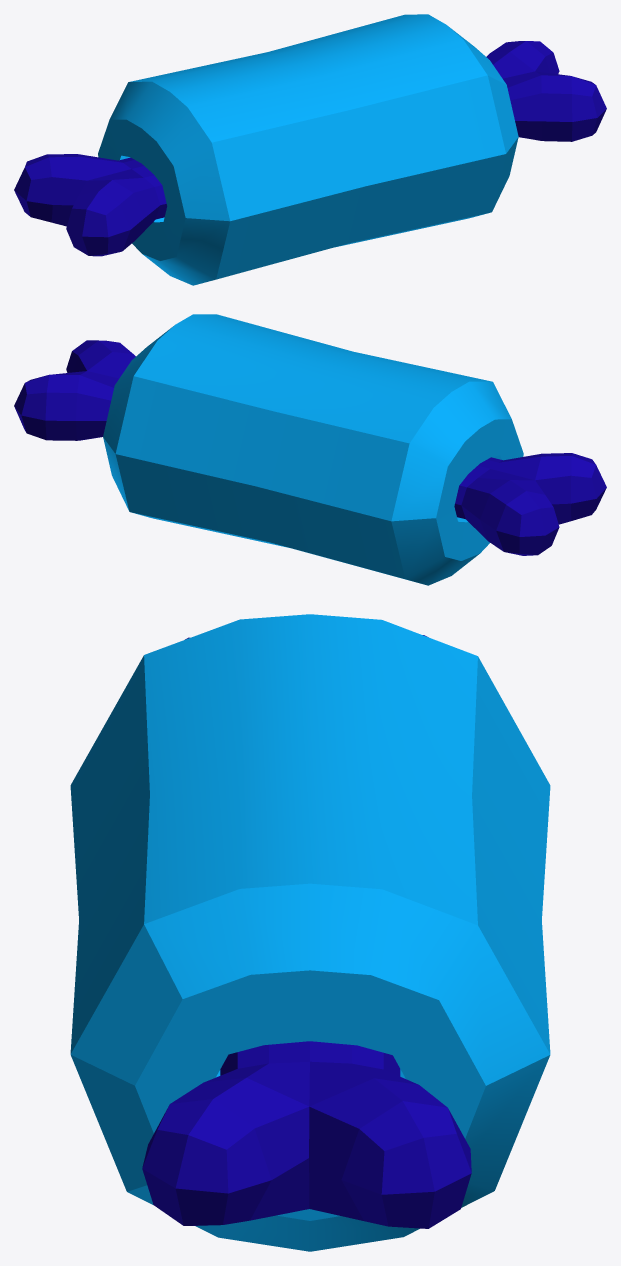
Rendered from Thigh.FBX.
3 renders of one model, top to bottom at view 1: azimuth 30°, elevation 25°; view 2: azimuth 150°, elevation 25°; view 3: azimuth 270°, elevation 25°, orthographic. The views are drawn at different scales.
Parts seen in each view (by area): view 1: Hueso001; view 2: Hueso001; view 3: Hueso001.
Part boxes in pixels (<box>): Hueso001: <box>14,14,606,285</box>; Hueso001: <box>14,314,606,585</box>; Hueso001: <box>70,614,550,1251</box>.
Bounding box in the file's own units: 147 × 48.45 × 57.25.
